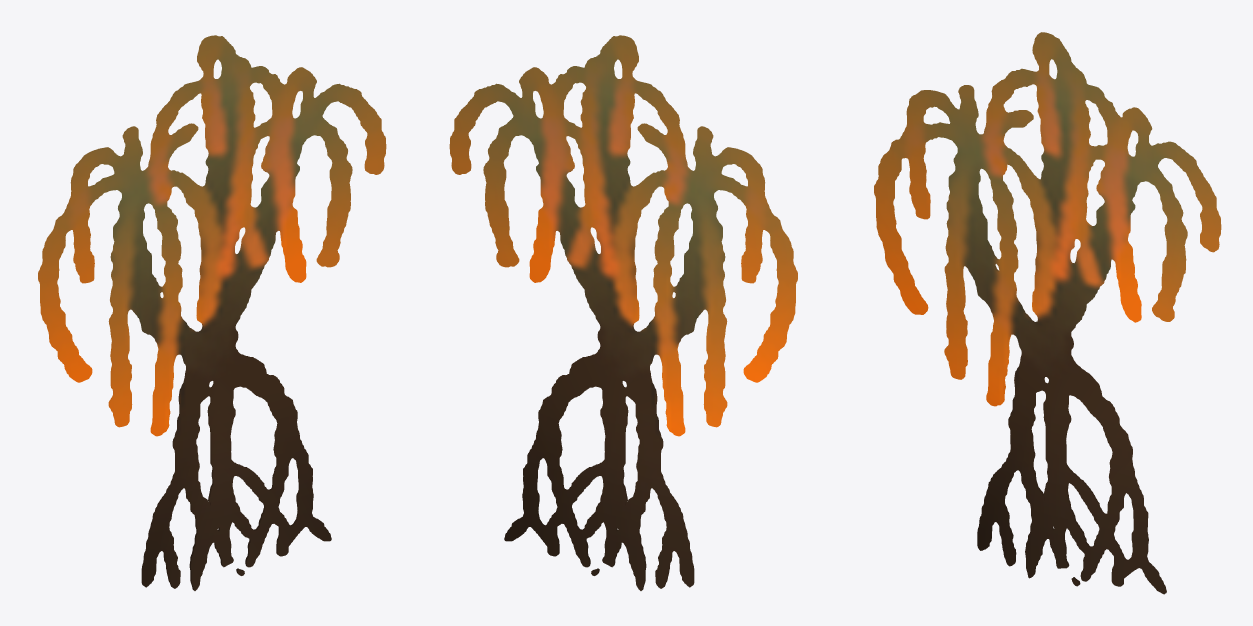
Rendered from HP3_weed081.fbx.
The picture shows the model from 3 angles, left to right: view 1: azimuth 30°, elevation 25°; view 2: azimuth 150°, elevation 25°; view 3: azimuth 330°, elevation 25°; orthographic projection.
Visible parts, largest first — view 1: HP3_weed081; view 2: HP3_weed081; view 3: HP3_weed081.
Part boxes in pixels (bbox=[...]): HP3_weed081: bbox=[38, 35, 386, 590]; HP3_weed081: bbox=[449, 35, 797, 590]; HP3_weed081: bbox=[874, 32, 1221, 594].
Bounding box in the file's own units: 6.87 × 10.09 × 0.04.
